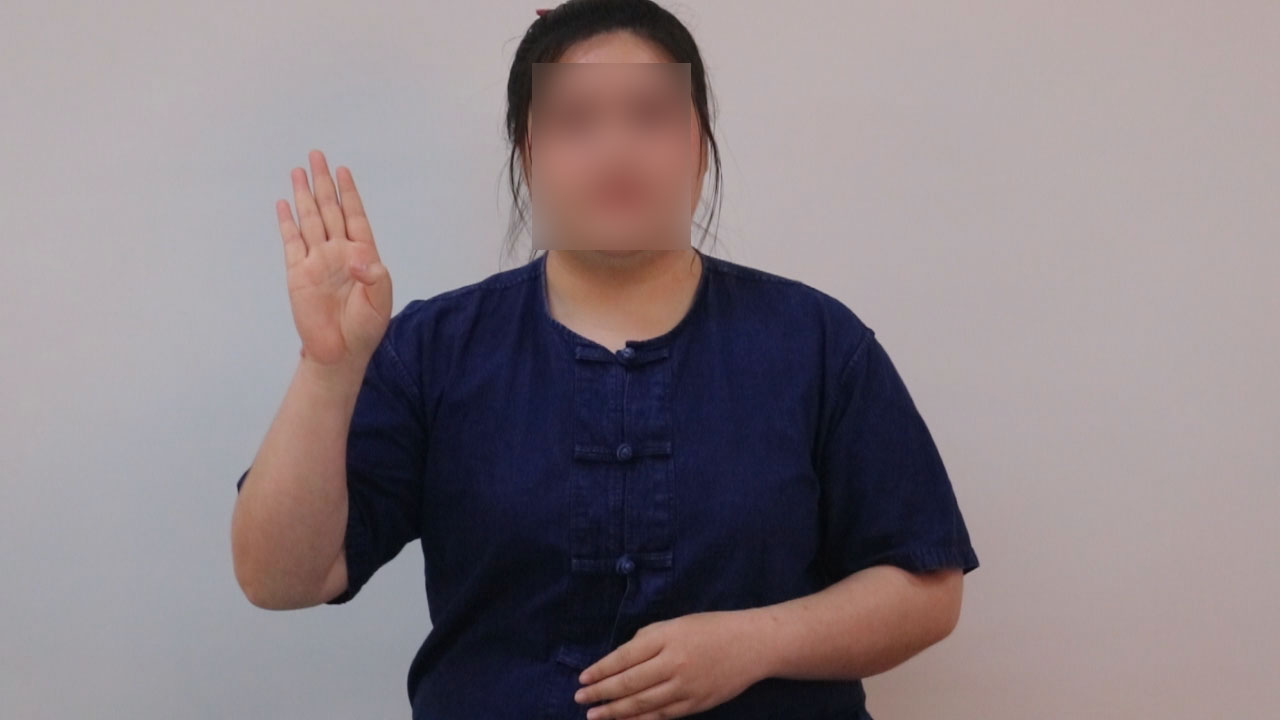bor: (250, 130, 416, 400)
